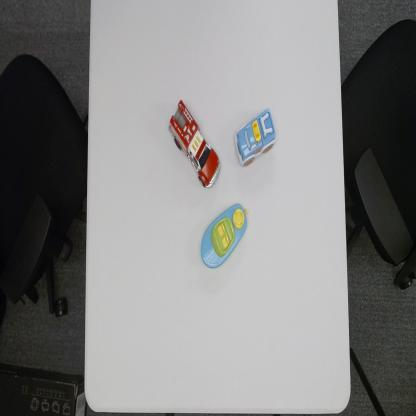Boat: (200, 201, 249, 271)
Car: (234, 103, 277, 169)
Firetruck: (168, 98, 222, 190)
